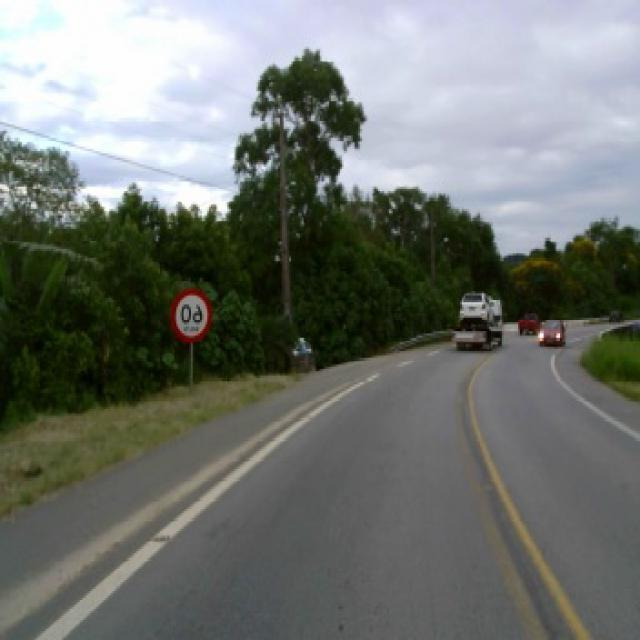Poth-hole: (152, 531, 172, 540)
